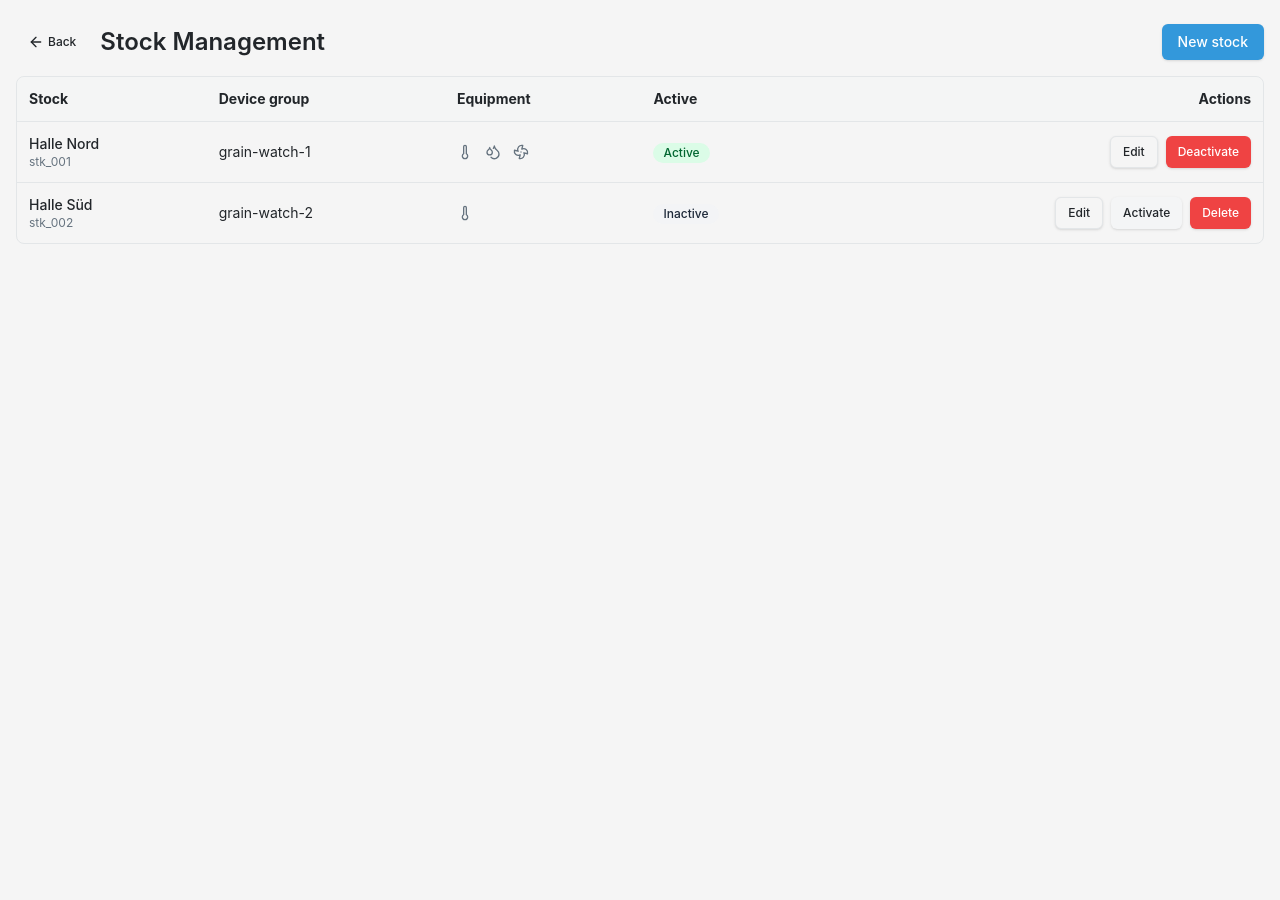
Test case: AdminStocksPage › names the stock and its losses in the delete confirmation
Expected: the text "Halle Süd" is shown, [29, 196, 92, 213]
Click the button "Delete". click: (1221, 213)
box: [1190, 197, 1251, 229]
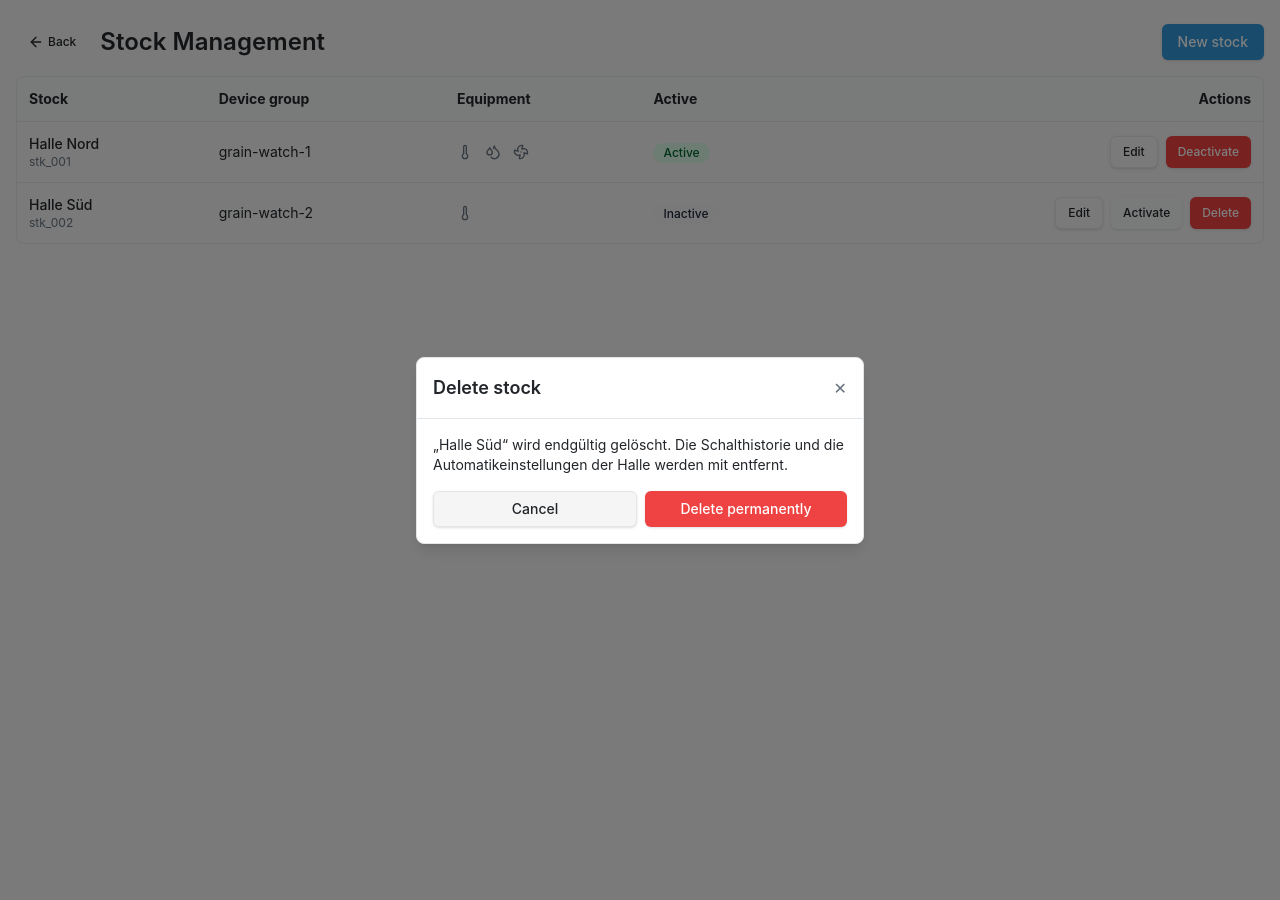
Expected: the text "„Halle Süd“ wird" is shown, [433, 434, 847, 474]
Expected: the text "Automatikeinstellungen" is shown, [433, 436, 844, 472]
